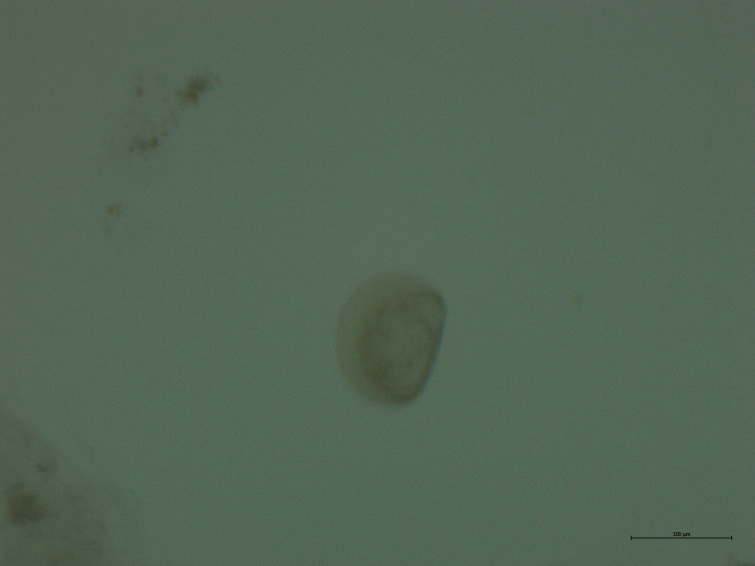oyster: (325, 261, 455, 425)
